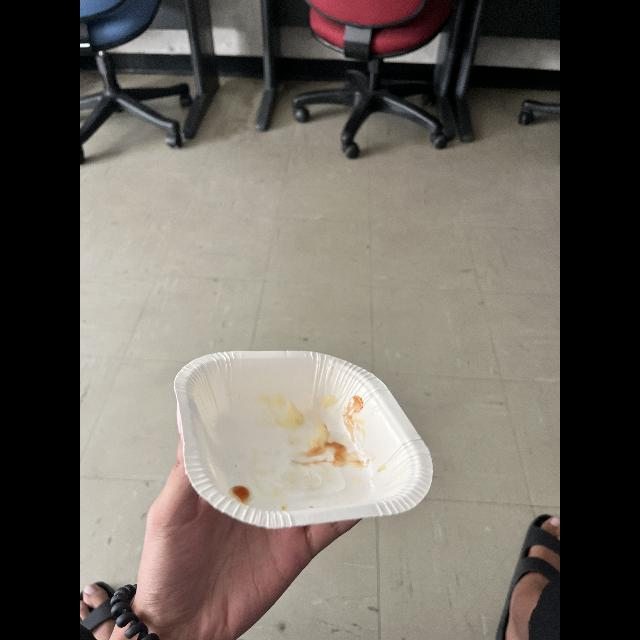cardboard_bowl: (162, 341, 440, 533)
